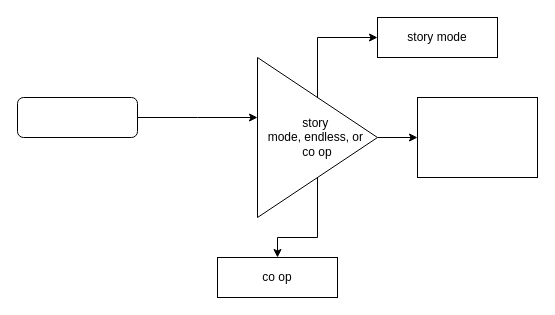
This 555x315 diagram has some shape labels left out. The shapes that lost their labels are listed below. From the top down, each one's centre as x and y in pixels, then its label:
At (x=77, y=117): "Start game".
At (x=477, y=137): "endless".
